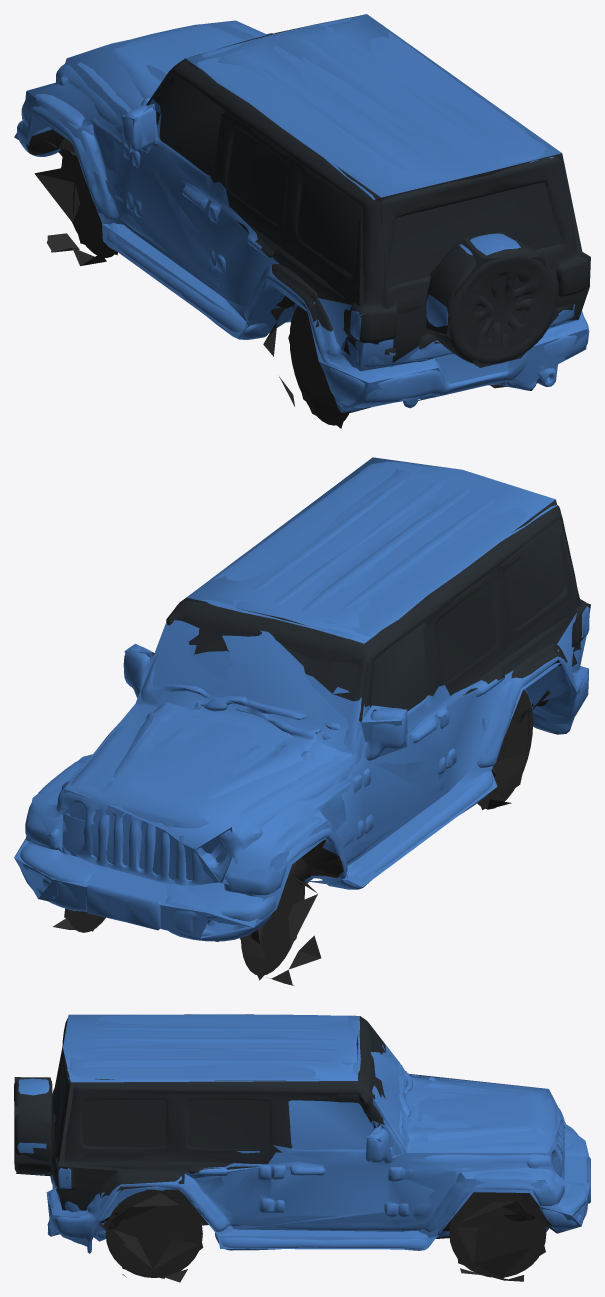
The model's file is jeep-wrangler.glb.
3 views of the same model, one above another, from view 1: azimuth 30°, elevation 25°; view 2: azimuth 150°, elevation 25°; view 3: azimuth 270°, elevation 25° (orthographic). The views are drawn at different scales.
Parts seen in each view (by area): view 1: body, far; view 2: body, far; view 3: body, far.
Part boxes in pixels (x1,y1,x2,y2): body: (17,17,589,425); far: (14,14,590,428); body: (20,461,589,985); far: (14,457,590,985); body: (14,1014,590,1282); far: (14,1014,589,1278).
Size of the model in its own units: 2.03 by 1.86 by 4.81.
